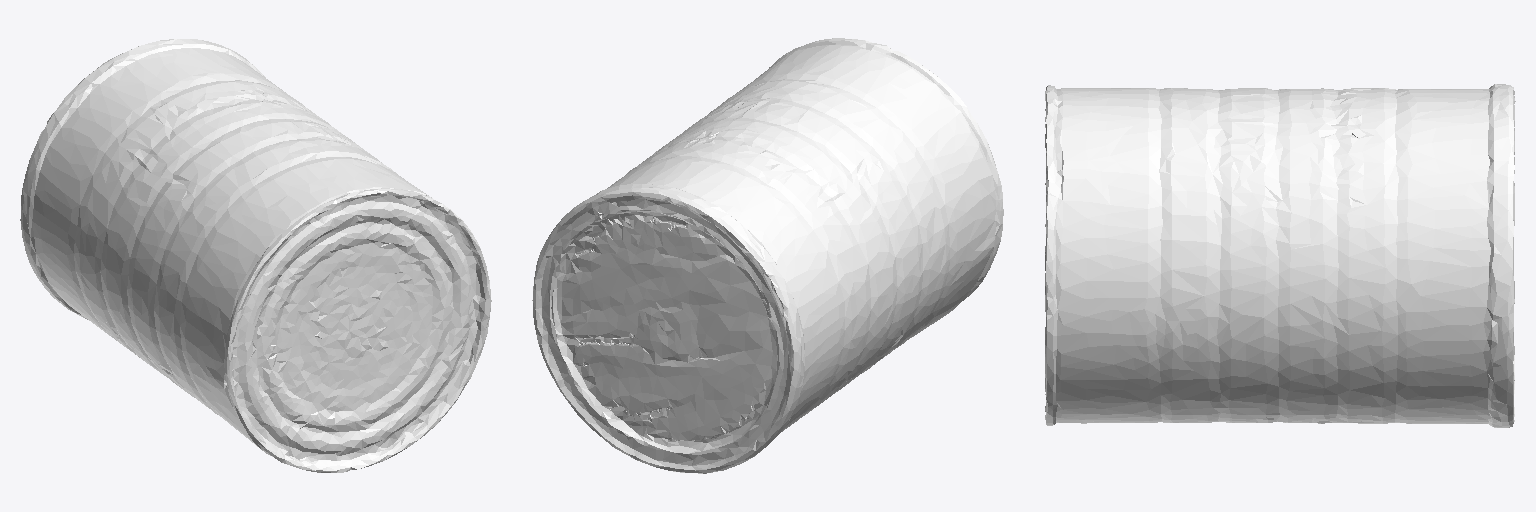
URDF robot description (master_chef_can_flipped):
<robot name="master_chef_can_flipped">
    <link name="base_link">
        <visual>
            <origin xyz="0.005167437849898521 -0.07058421123879596 -0.01897421546193206" rpy="0.0 0.0 0.0" />
            <geometry>
                <mesh filename="master_chef_can_flipped/textured.obj" scale="1 1 1" />
            </geometry>
            <material name="texture">
                <color rgba="1.0 1.0 1.0 1.0" />
            </material>
        </visual>
        <collision>
            <origin xyz="0.005167437849898521 -0.07058421123879596 -0.01897421546193206" rpy="0.0 0.0 0.0" />
            <geometry>
                <mesh filename="master_chef_can_flipped/textured_vhacd.stl" scale="1 1 1" />
            </geometry>
        </collision>
        <inertial>
            <mass value="1.0" />
            <inertia ixx="1e-3" ixy="0.0" ixz="0.0" iyy="1e-3" iyz="0.0" izz="1e-3" />
        </inertial>
    </link>
</robot>

--- What the picture shows (computed from the rendered views, not written in the file) ---
3 views of the same robot in one strip: view 1: azimuth 30°, elevation 25°; view 2: azimuth 150°, elevation 25°; view 3: azimuth 270°, elevation 25° (orthographic).
Model master_chef_can_flipped with 1 links and 0 joints (none), rooted at base_link, posed all joints at 0.
Links seen in each view (by area): view 1: base_link; view 2: base_link; view 3: base_link.
Boxes of the visible links, x1,y1,x2,y2 form: base_link: [20, 39, 491, 472]; base_link: [532, 38, 1003, 473]; base_link: [1045, 84, 1515, 427].
Size in the robot's own frame: 0.1024 by 0.1402 by 0.1023 metres.
Meshes: 1 distinct files referenced, 1 mesh visuals loaded (1 OBJ).
